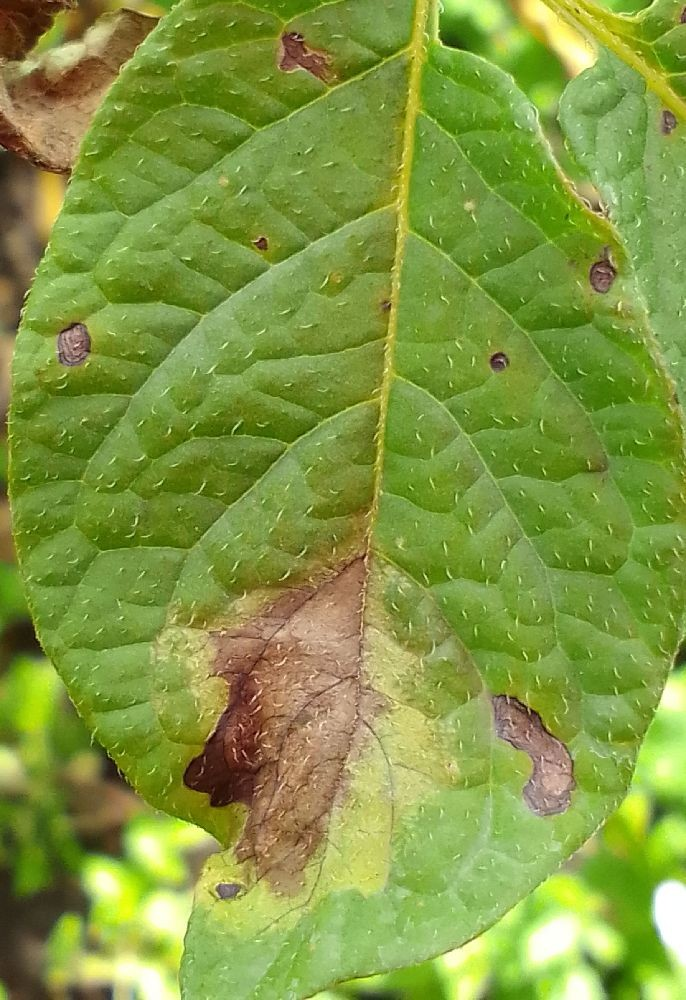late_blight: (166, 473, 450, 917), (0, 0, 215, 500), (0, 762, 135, 1000), (471, 679, 590, 830)
